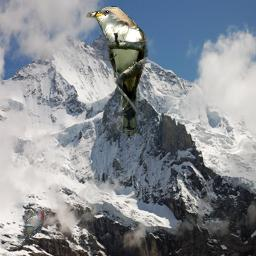Cuckoo: (86, 6, 148, 136)
Woodpecker: (17, 207, 44, 245)
